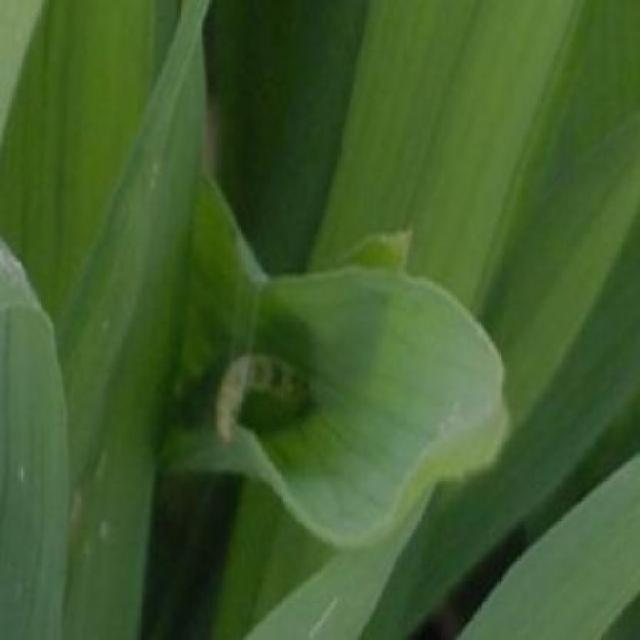leaf-folder: (200, 294, 337, 452)
